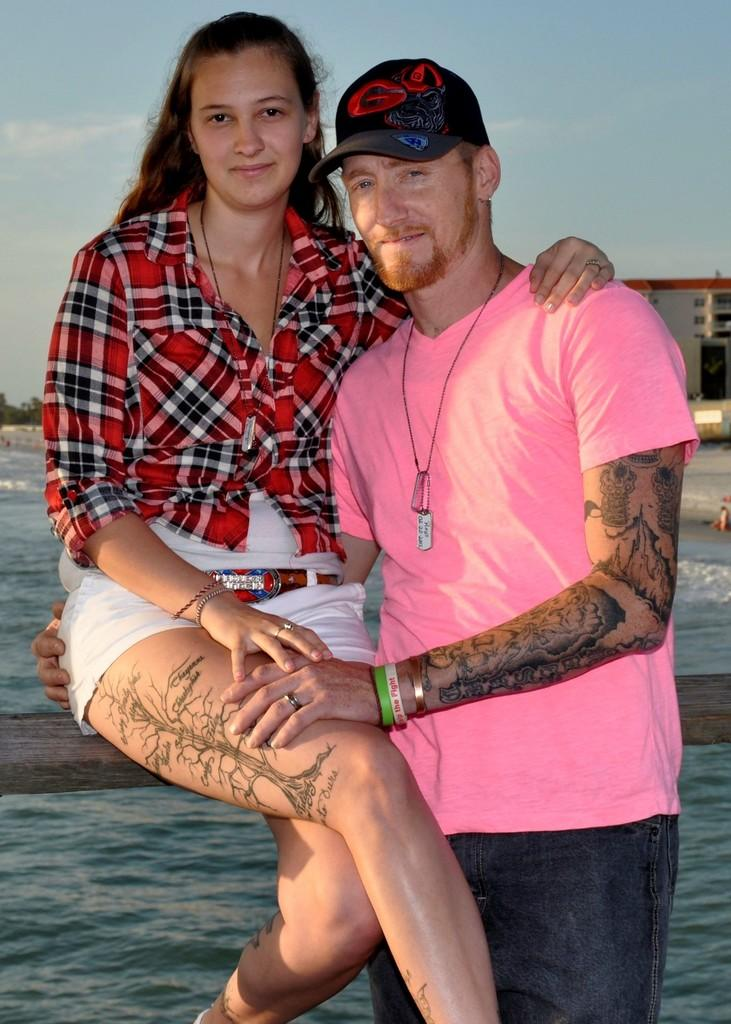Hat: (310, 50, 487, 178)
